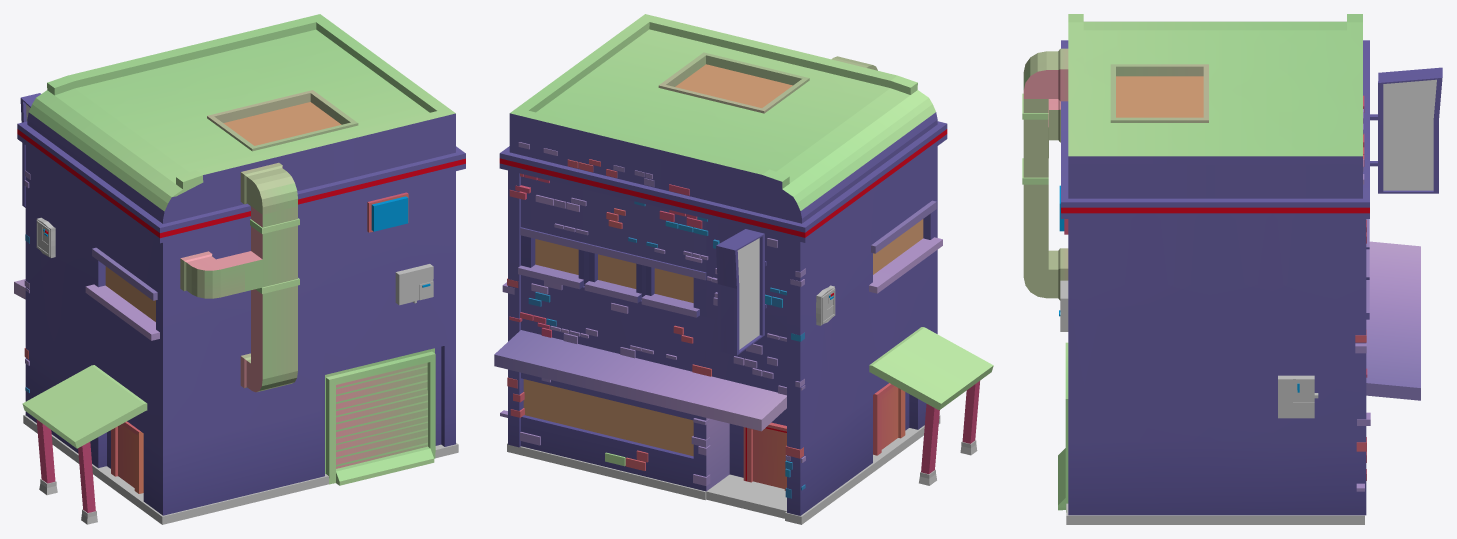
File: Building_Fader.fbx
3 renders of one model, left to right at view 1: azimuth 30°, elevation 25°; view 2: azimuth 150°, elevation 25°; view 3: azimuth 270°, elevation 25°, orthographic. The views are drawn at different scales.
Parts seen in each view (by area): view 1: Building_Sign01; view 2: Building_Sign01, Wall.001; view 3: Building_Sign01, Wall.001.
Part boxes in pixels (x1,y1,x2,y2): Building_Sign01: (14,14,465,524); Building_Sign01: (494,14,993,524); Wall.001: (500,142,805,498); Building_Sign01: (1022,14,1442,524); Wall.001: (1355,95,1370,491).
Bounding box in the file's own units: 974 × 845 × 875.
